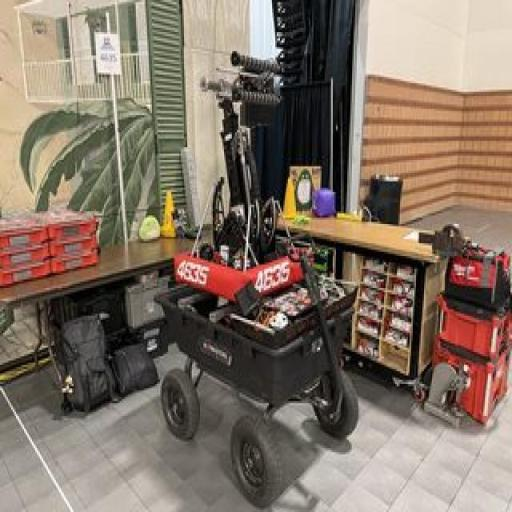robot: (158, 46, 316, 302)
